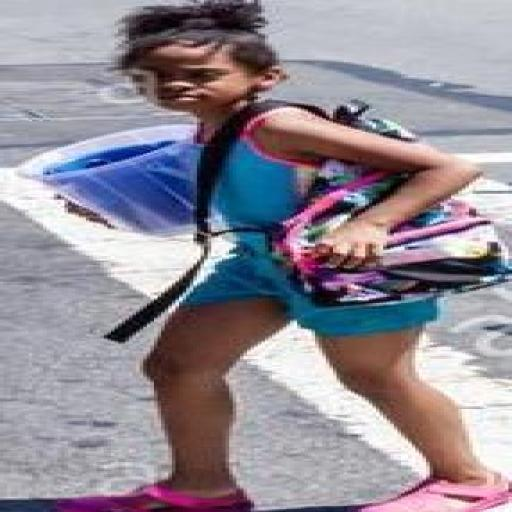person: (58, 234, 508, 511)
